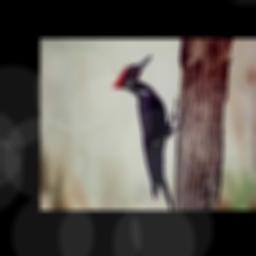Woodpecker: (113, 54, 180, 210)
